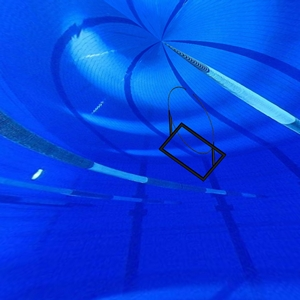circle: (157, 80, 230, 184)
